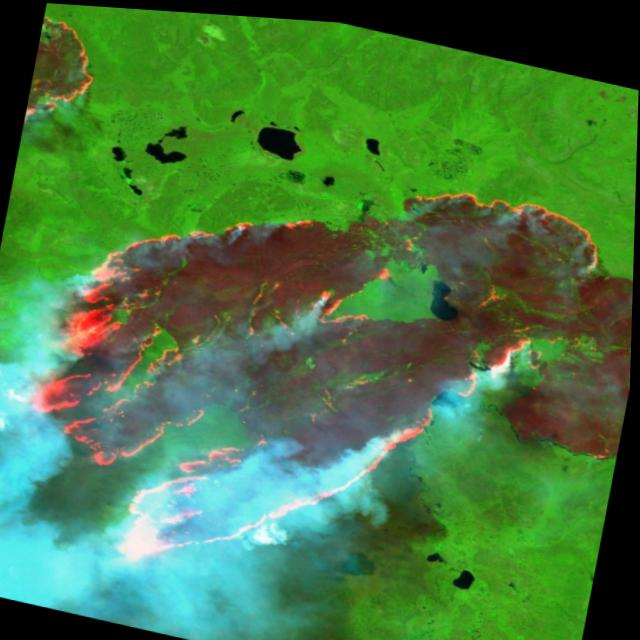fire: (5, 101, 612, 640), (26, 12, 102, 128)
